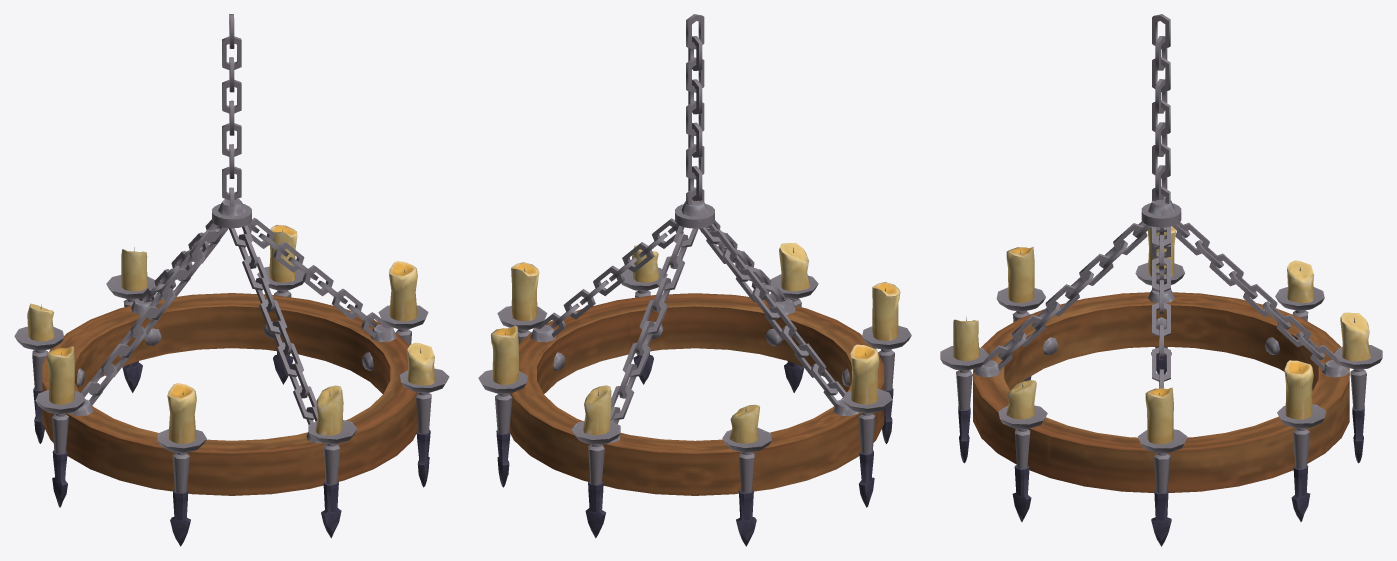
File: chandelier.glb
3 renders of one model, left to right at view 1: azimuth 30°, elevation 25°; view 2: azimuth 150°, elevation 25°; view 3: azimuth 270°, elevation 25°, orthographic.
Visible parts, largest first — view 1: Chandelier; view 2: Chandelier; view 3: Chandelier.
Boxes of the visible parts, left/top/right/bottom form: Chandelier: left=14, top=14, right=449, bottom=546; Chandelier: left=478, top=14, right=911, bottom=546; Chandelier: left=940, top=14, right=1382, bottom=546.
Bounding box in the file's own units: 1.3 × 1.46 × 1.3.
3 materials, 3 textured.
